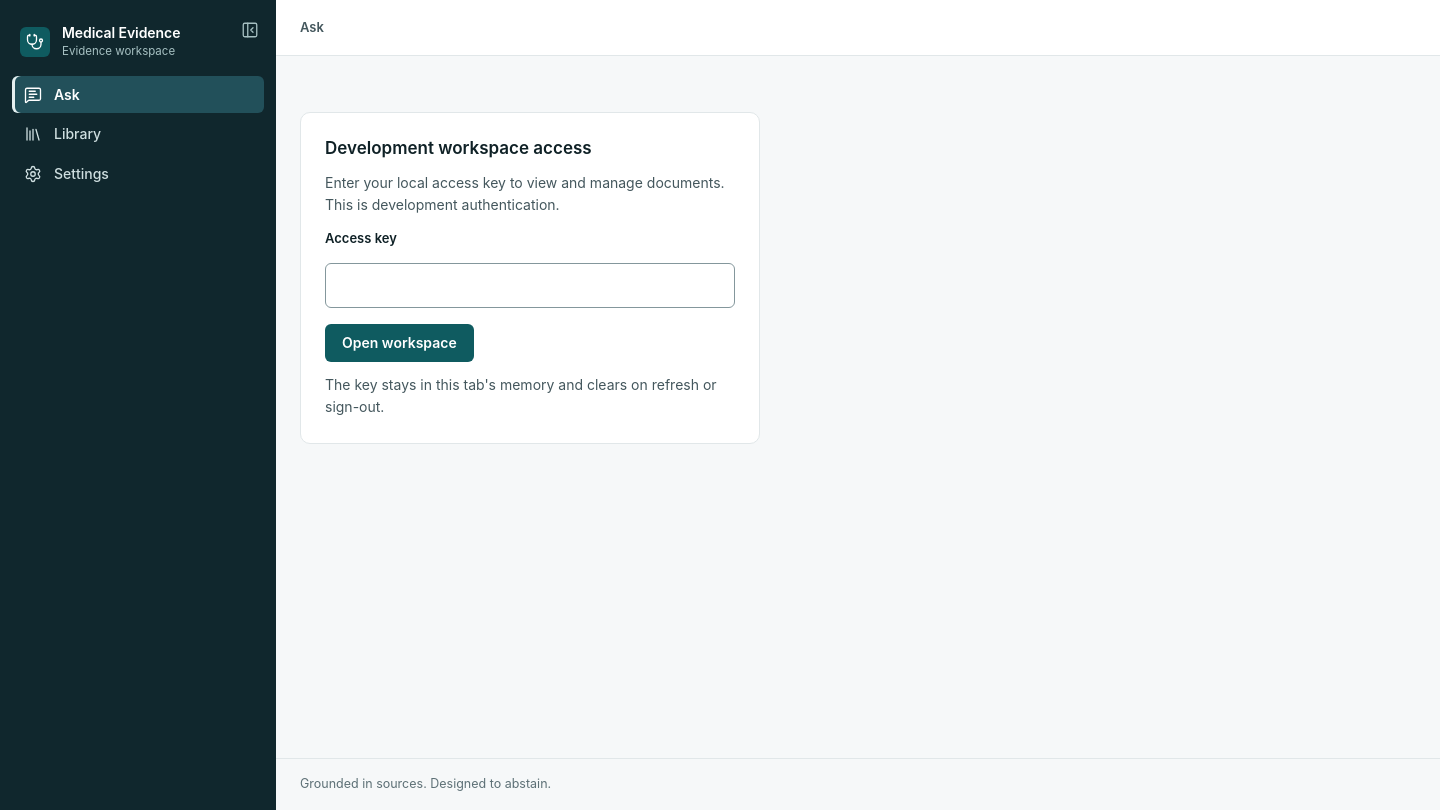
it: what the rail lists › lists a tool only to a principal who may use it
The image size is (1440, 810).
In the password field labelled "Access key": (530, 285) [325,263,735,308], type "test-key"
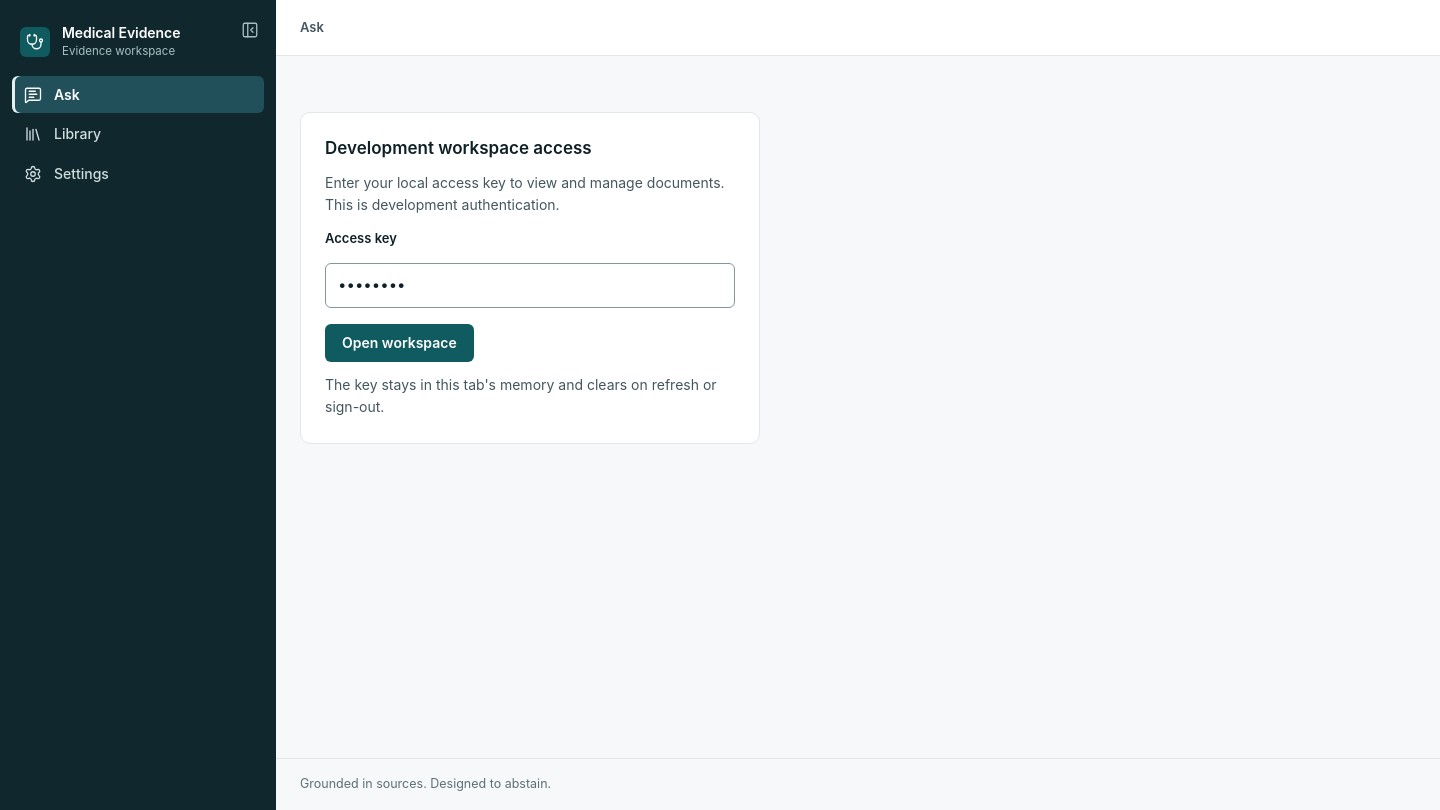
Click the button "Open workspace": (399, 343) [325,324,474,362]
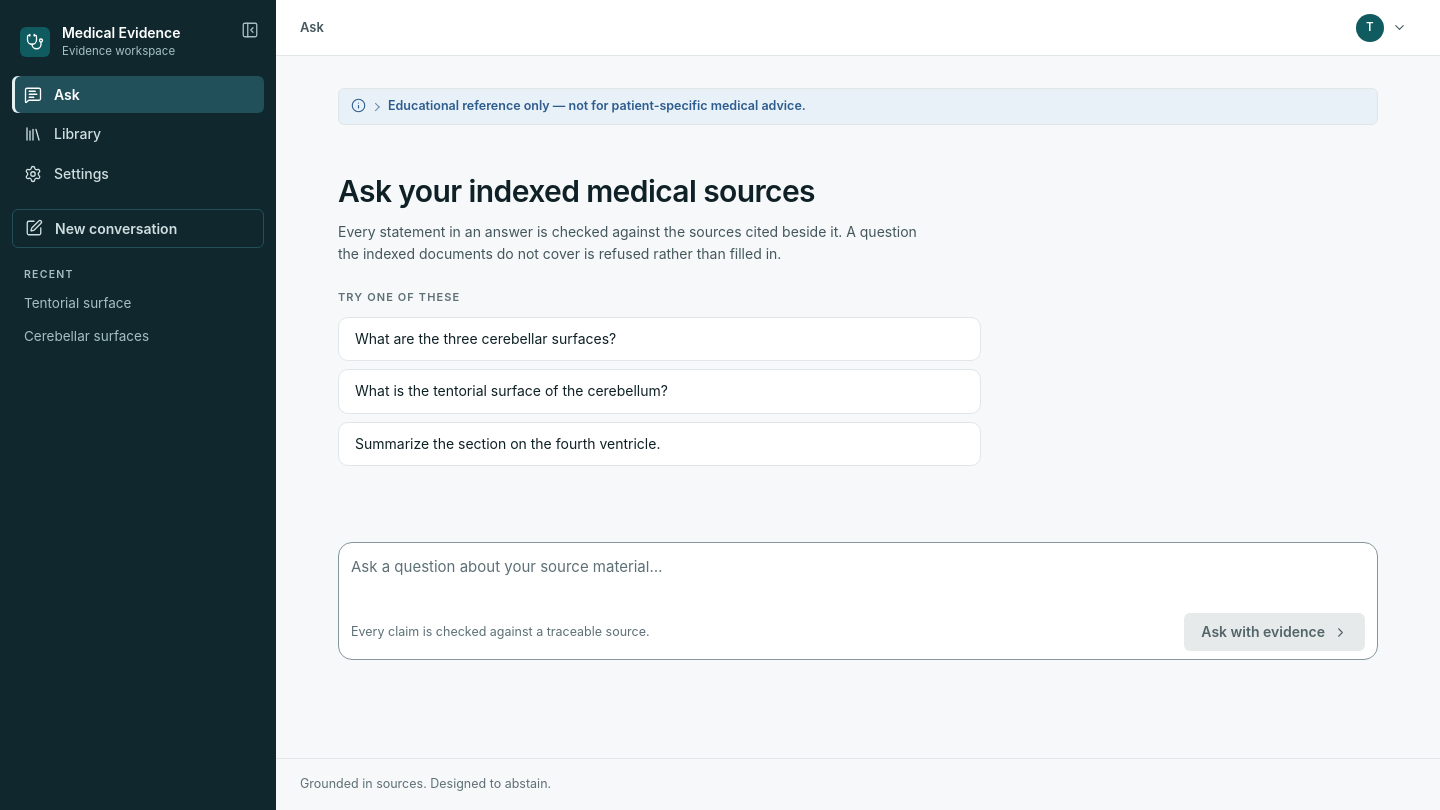
Check: the link "Ask" is shown, box [12,76,264,113]
Check: the text box named "Your educational medical question" is shown, box [351,555,1365,605]
